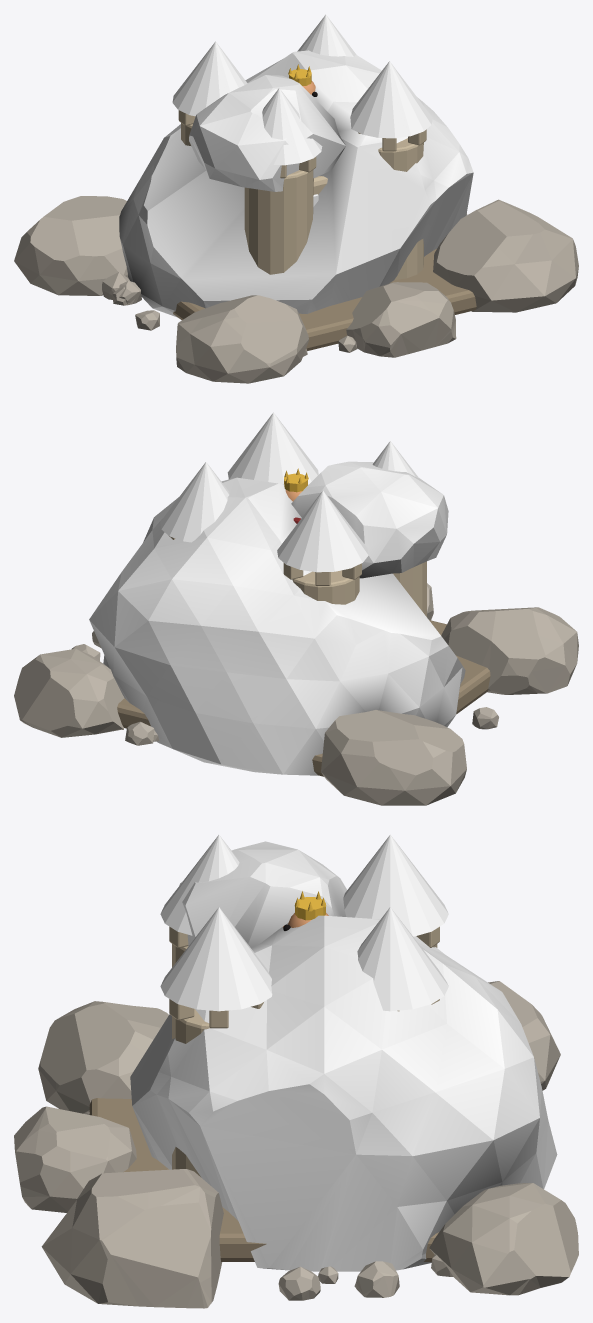
File: props.glb
3 views of the same model, one above another, from view 1: azimuth 30°, elevation 25°; view 2: azimuth 150°, elevation 25°; view 3: azimuth 270°, elevation 25° (orthographic). The views are drawn at different scales.
Visible parts, largest first — view 1: giantRock, fort; view 2: giantRock, fort; view 3: giantRock, fort.
Part boxes in pixels (<box>): giantRock: <box>14,50,578,383</box>; fort: <box>172,14,476,350</box>; giantRock: <box>14,461,578,805</box>; fort: <box>117,412,490,776</box>; giantRock: <box>14,841,578,1308</box>; fort: <box>89,834,448,1261</box>.
Bounding box in the file's own units: 3.33 × 1.79 × 2.89.
